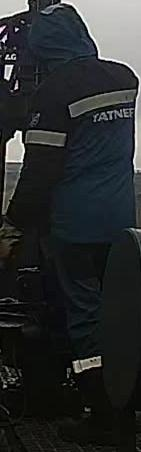gloves: (0, 210, 25, 268)
vest: (32, 58, 140, 246)
